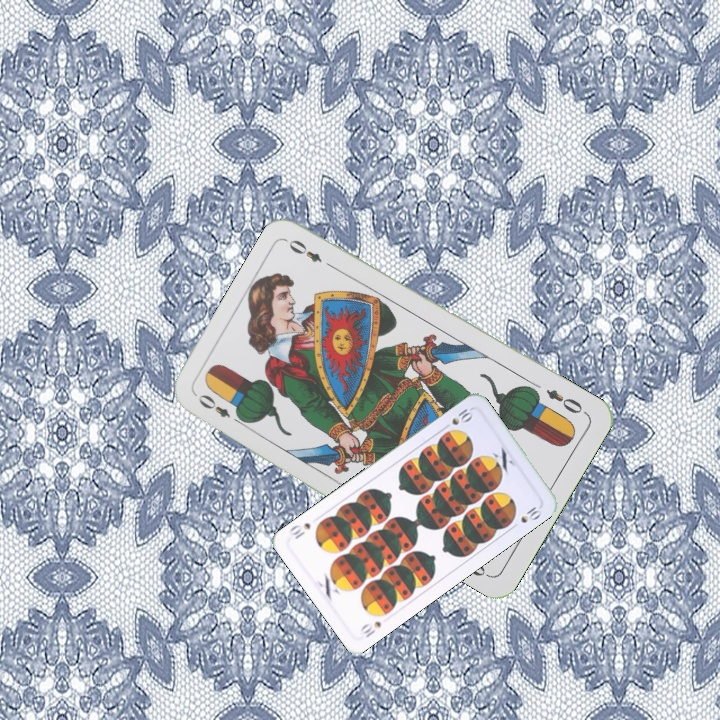EO: (194, 390, 247, 428), (542, 385, 590, 418)
S10: (439, 404, 476, 432), (356, 617, 384, 640)
